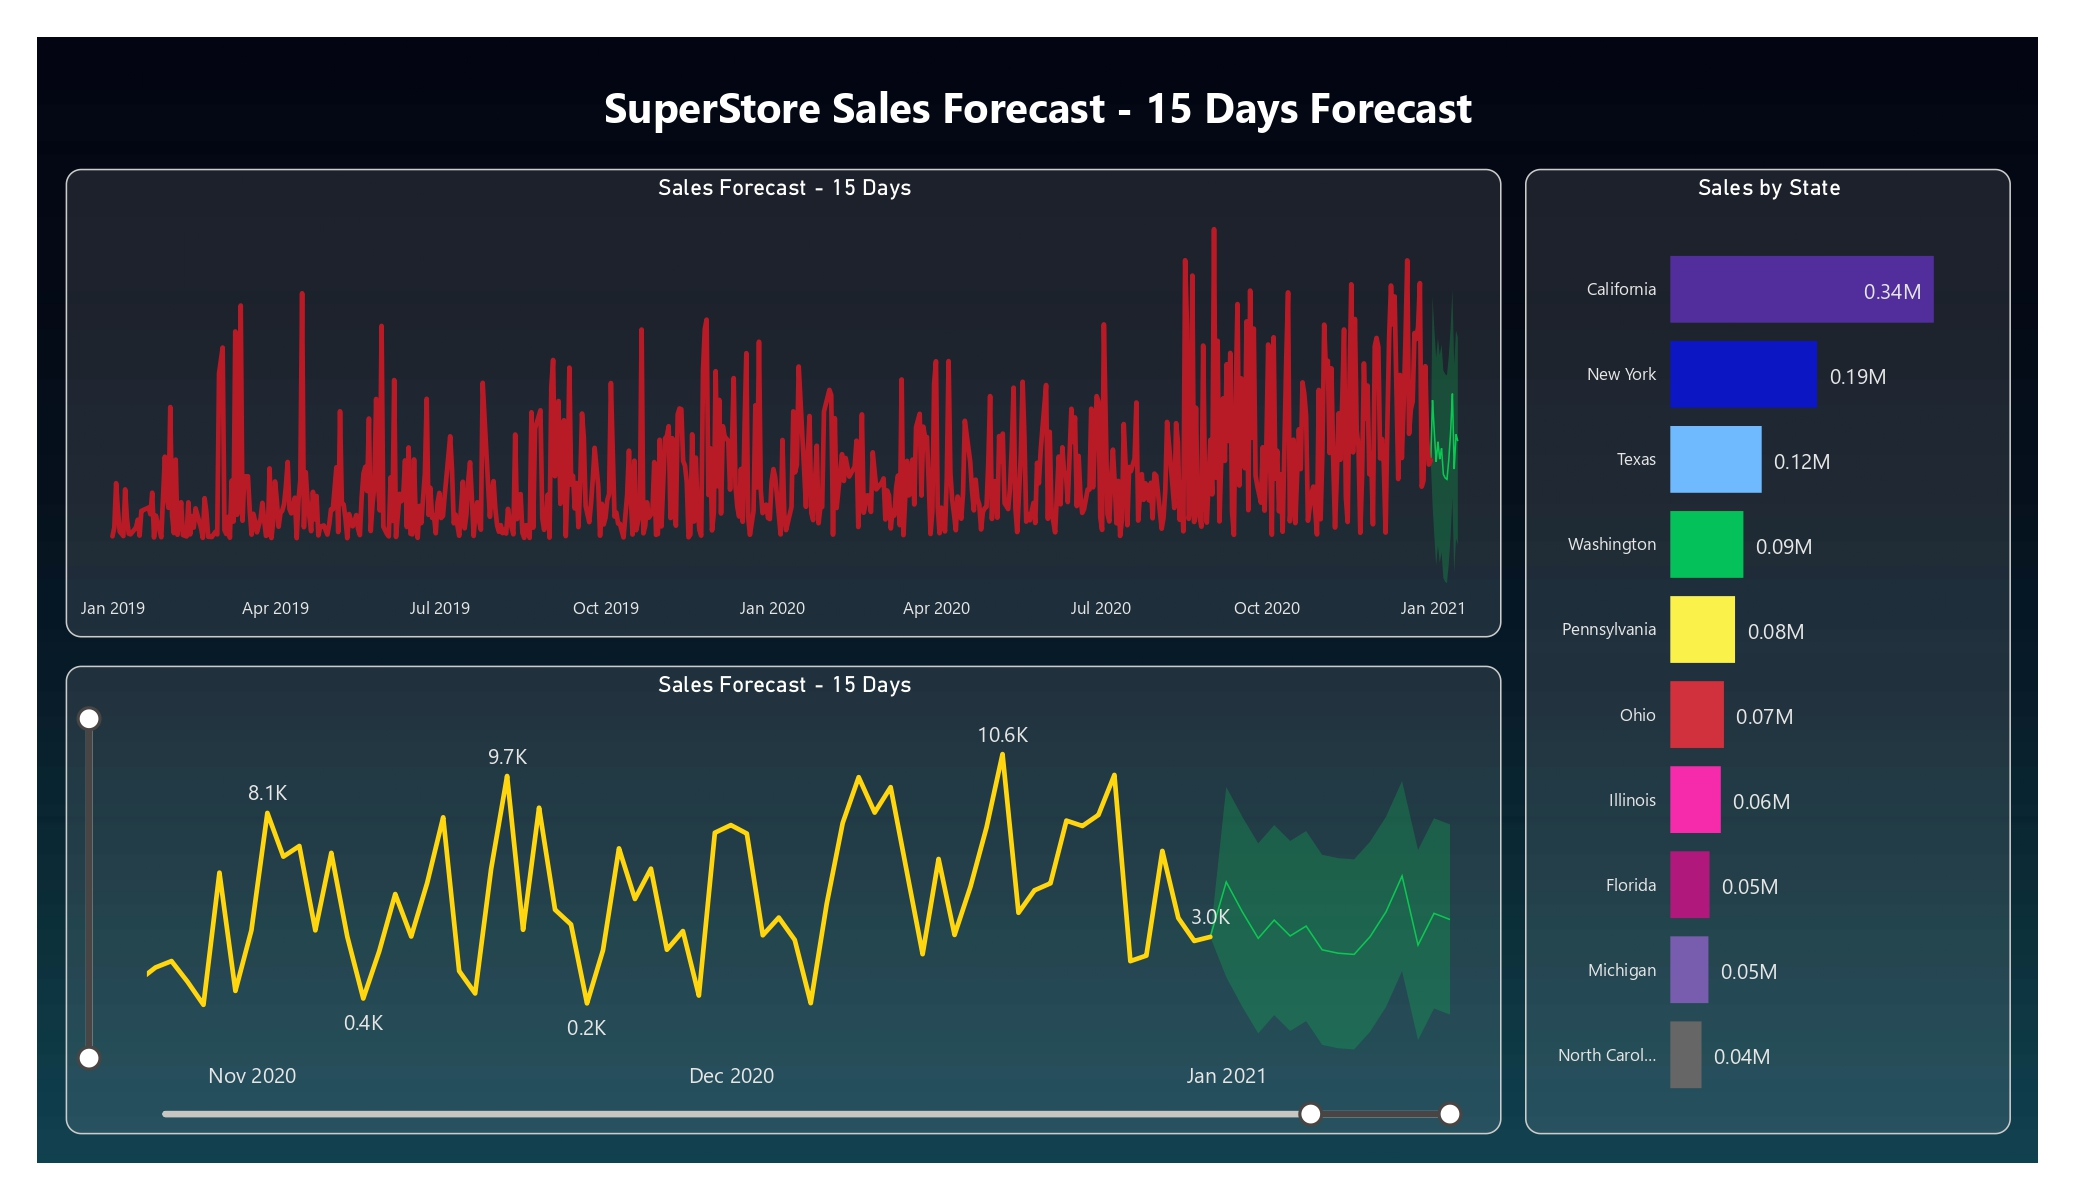

The dashboard page shown, as its layout file describes it:
{"tool":"powerbi","page":{"name":"Page 2","canvas":[1280,720],"ordinal":1},"visuals":[{"type":"lineChart","title":"Sales Forecast - 15 Days","fields":{"Y":["Sum(SuperStore_Sales_Dataset.Sales)"],"Category":["SuperStore_Sales_Dataset.Order Date"]},"box":[18.1,84.4,919,299.1],"z":0},{"type":"lineChart","title":"Sales Forecast - 15 Days","fields":{"Y":["Sum(SuperStore_Sales_Dataset.Sales)"],"Category":["SuperStore_Sales_Dataset.Order Date"]},"box":[18.1,401.6,919,300.3],"z":1000},{"type":"clusteredBarChart","title":"Sales by State","fields":{"Y":["Sum(SuperStore_Sales_Dataset.Sales)"],"Category":["SuperStore_Sales_Dataset.State"]},"box":[951.6,84.4,311.2,617.5],"z":2000},{"type":"textbox","box":[349.7,20.5,581.3,53.1],"z":3000}]}

Visuals, with their boxes in screenshot pixels (x1, y1, x2, y2):
"Sales Forecast - 15 Days" lineChart: 66:169:1502:637
"Sales Forecast - 15 Days" lineChart: 66:665:1502:1134
"Sales by State" clusteredBarChart: 1524:169:2011:1134
textbox: 584:70:1492:152
